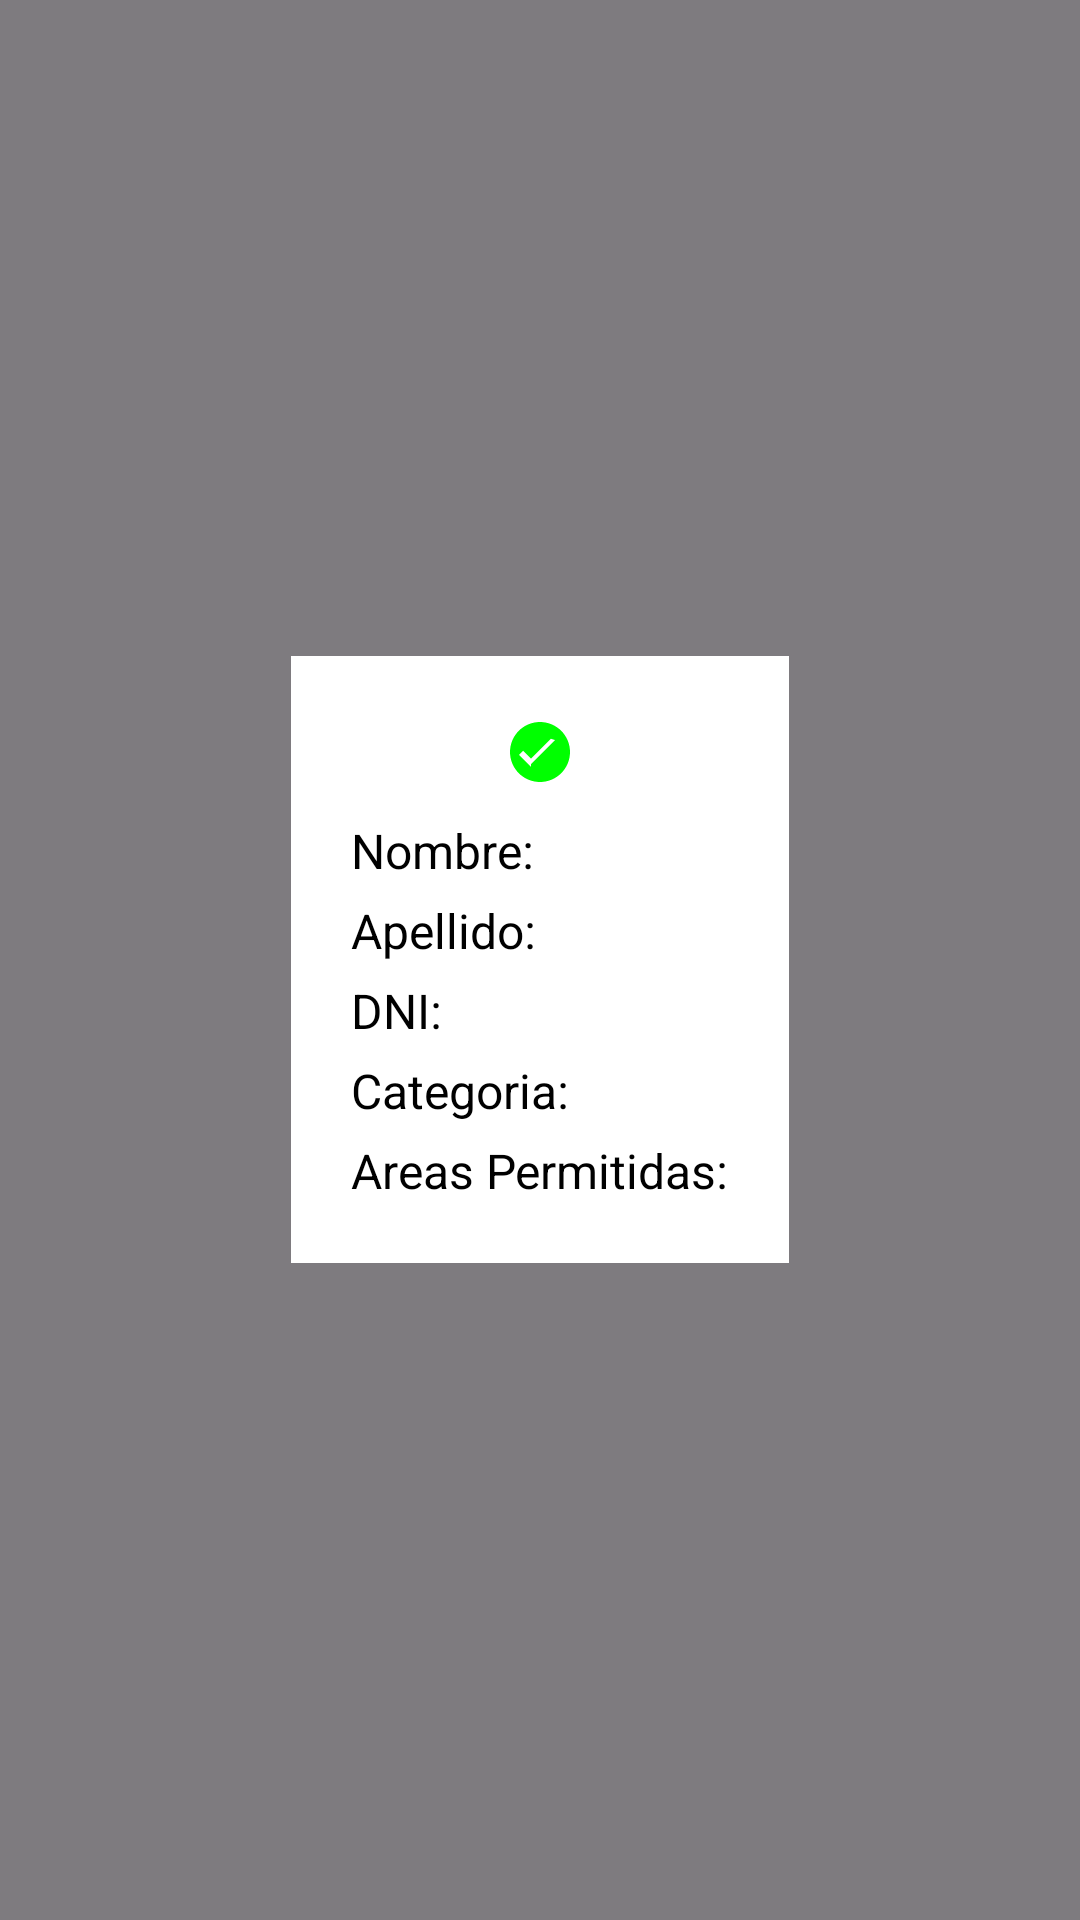

Point at icon controls on the screen. Image size 1080px×1920px, points as [x,y].
check circle: [540,752]
